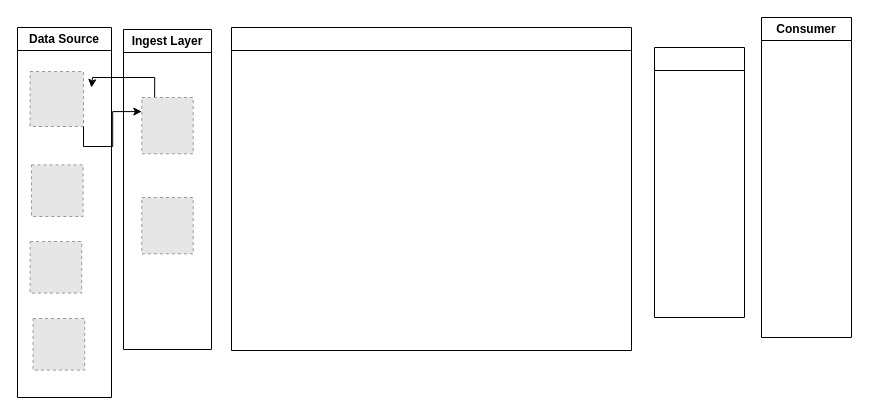
Image size: 869x415. Some labels were removed from this diagram. Grey dashed boxes stand in for pictures. The centre of each missing label's shape, as x and y in pixels:
Serving Layer: the point at 699,182
Transform Layer: the point at 431,188
